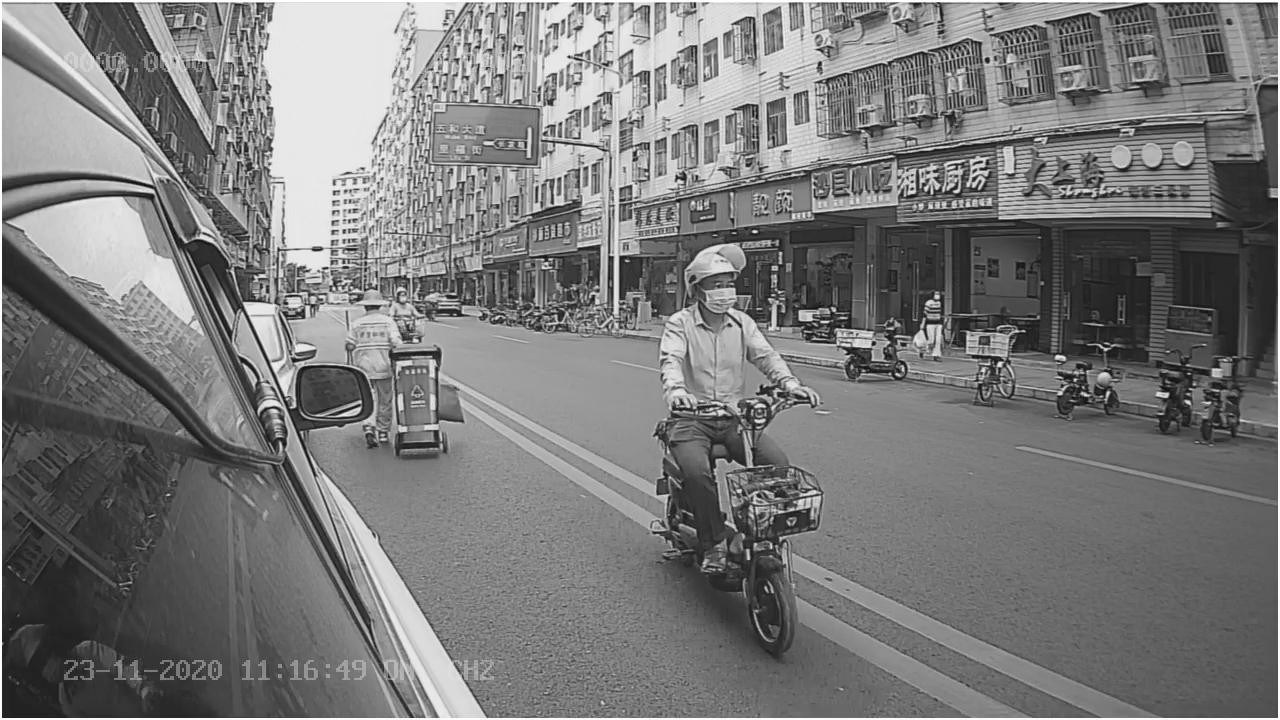person: (650, 241, 818, 402)
